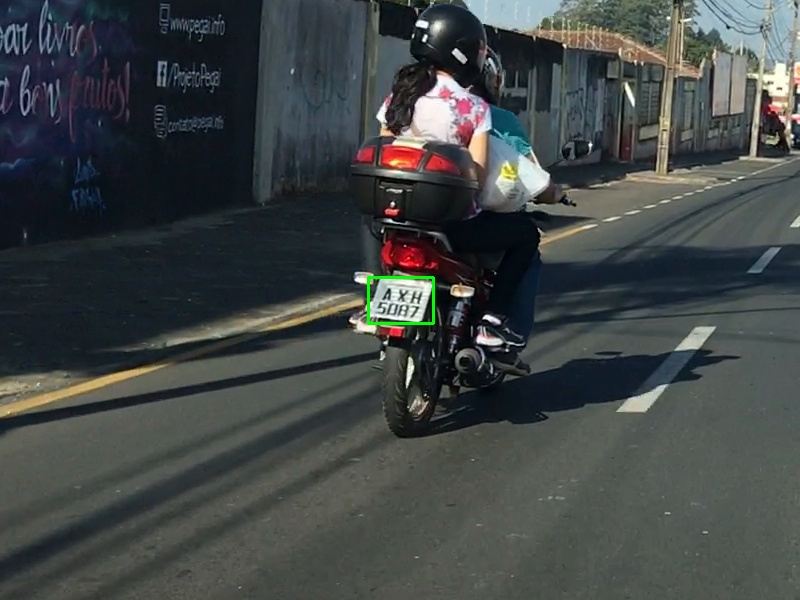placa: (368, 277, 433, 323)
